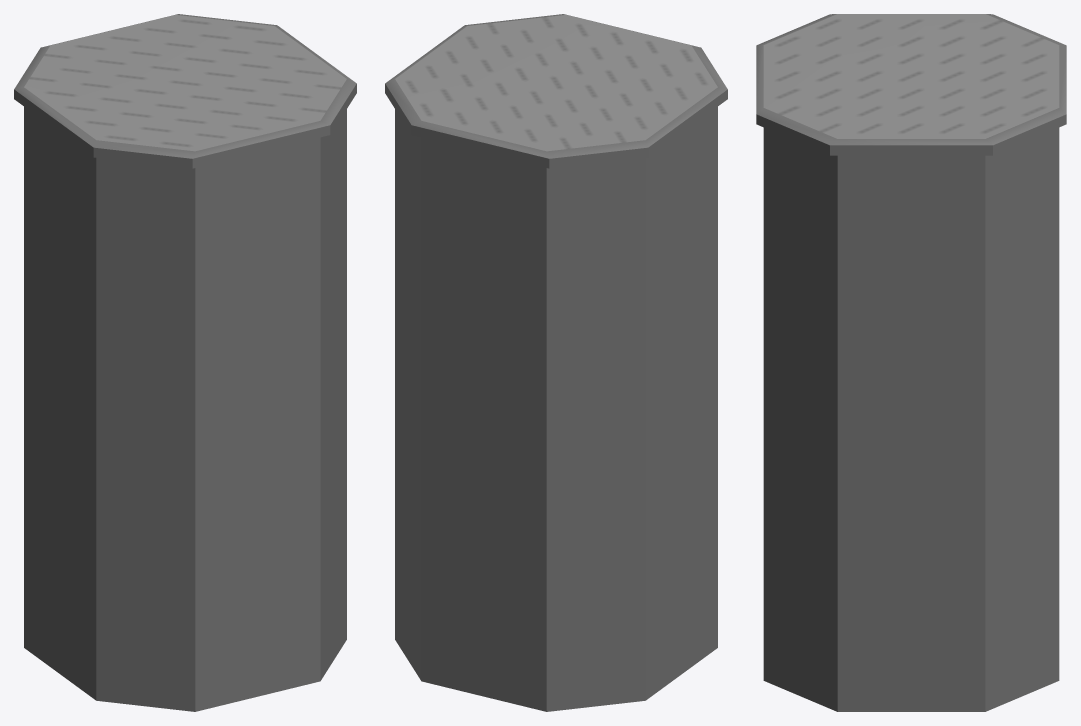
The model's file is Stone 3.fbx.
3 renders of one model, left to right at view 1: azimuth 30°, elevation 25°; view 2: azimuth 150°, elevation 25°; view 3: azimuth 270°, elevation 25°, orthographic. The views are drawn at different scales.
Visible parts, largest first — view 1: Stone_3; view 2: Stone_3; view 3: Stone_3.
Part boxes in pixels (x1,y1,x2,y2): Stone_3: (14, 14, 356, 711); Stone_3: (385, 14, 727, 711); Stone_3: (756, 14, 1066, 711).
Size of the model in its own units: 4.2 by 8.55 by 4.2.
